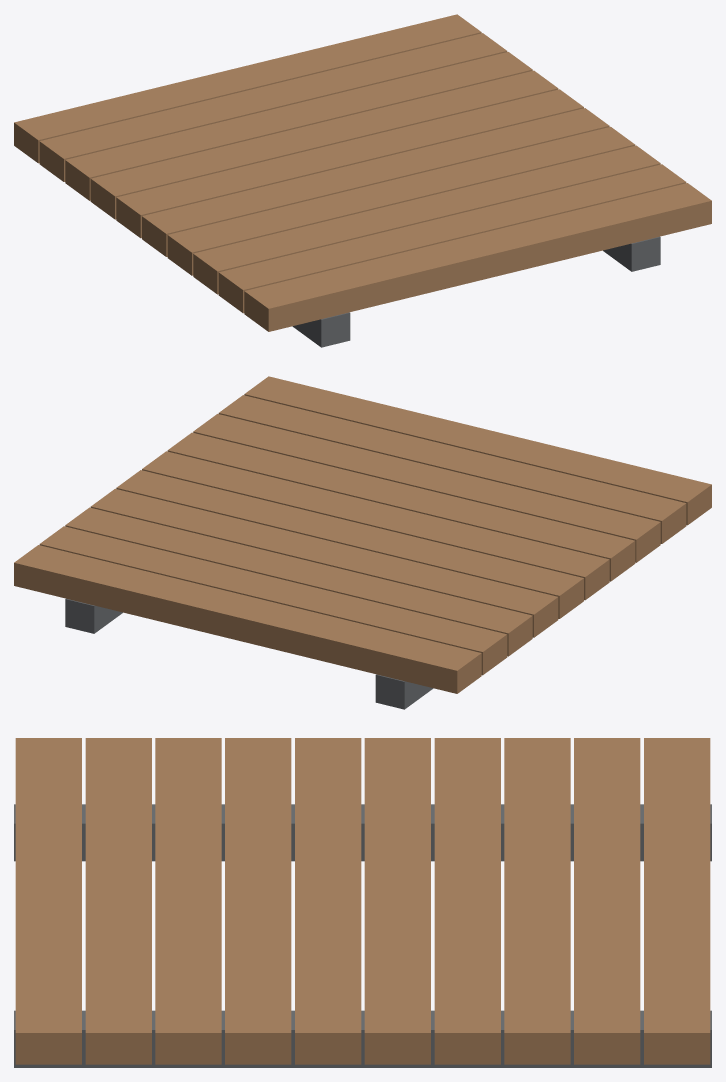
The model's file is frontier-boardwalk-module__134.glb.
3 renders of one model, top to bottom at view 1: azimuth 30°, elevation 25°; view 2: azimuth 150°, elevation 25°; view 3: azimuth 270°, elevation 25°, orthographic. The views are drawn at different scales.
Visible parts, largest first — view 1: frontier-post-boardwalk; view 2: frontier-post-boardwalk; view 3: frontier-post-boardwalk.
Boxes of the visible parts, box(x1,y1,x2,y2) form: frontier-post-boardwalk: box(14, 14, 711, 347); frontier-post-boardwalk: box(14, 376, 711, 709); frontier-post-boardwalk: box(14, 738, 711, 1067).
Size of the model in its own units: 2 by 0.22 by 2.
